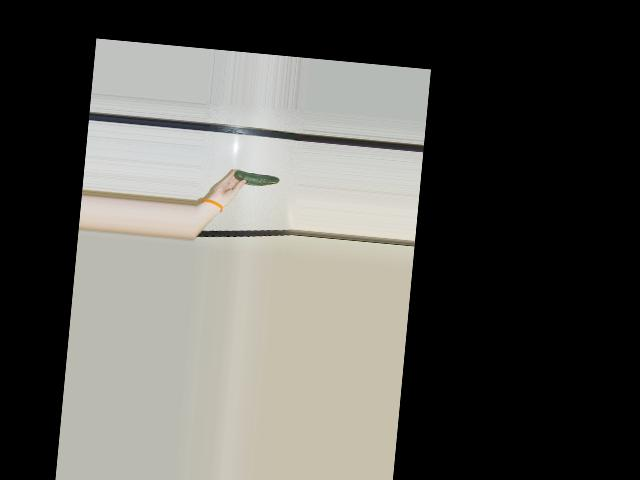cucumber: (233, 169, 280, 187)
